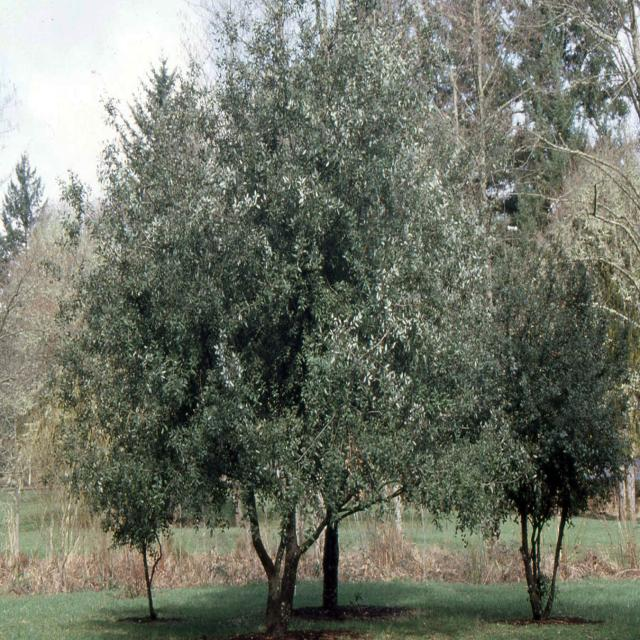Quercus chrysolepis: (186, 0, 462, 629), (48, 99, 222, 633), (455, 247, 628, 618)
